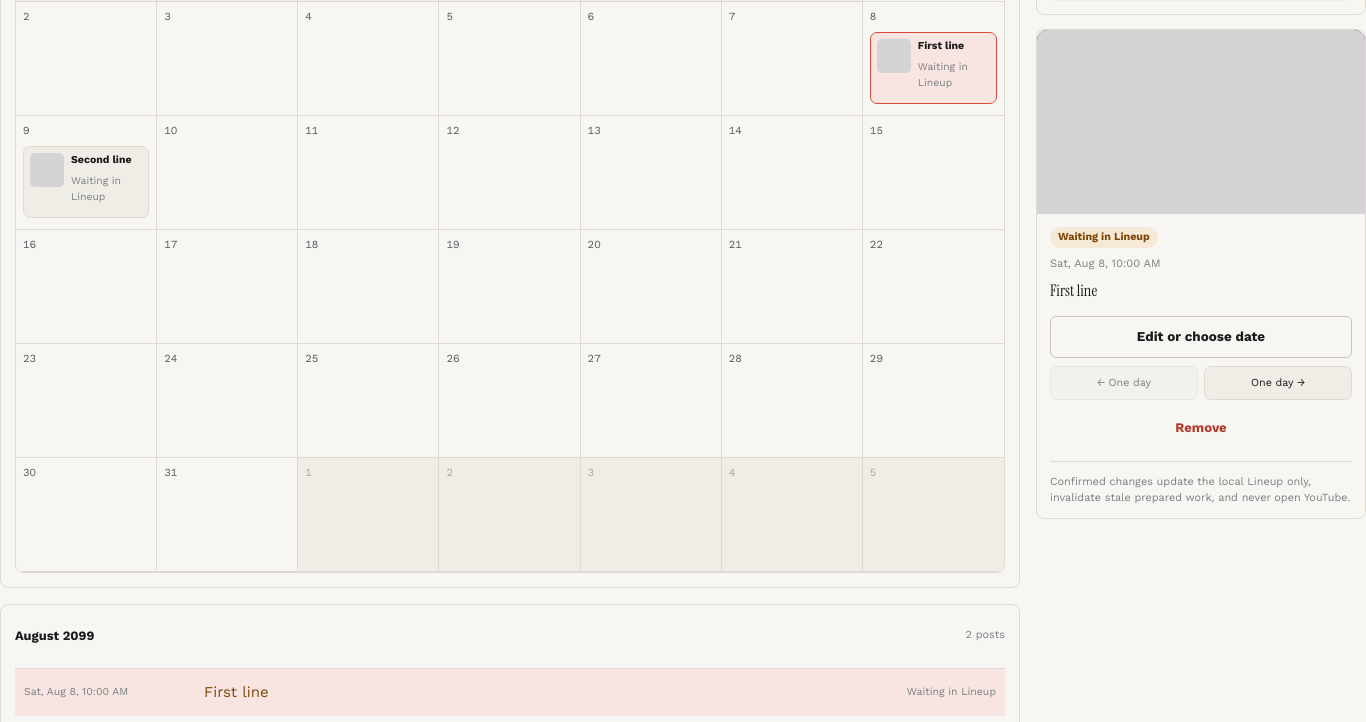
Test: LineupCalendar › opens a clear swap confirmation from the one-day shortcut
(page scrolled)
Click the button "One day →" at (1278, 383), box [1204, 366, 1352, 400]
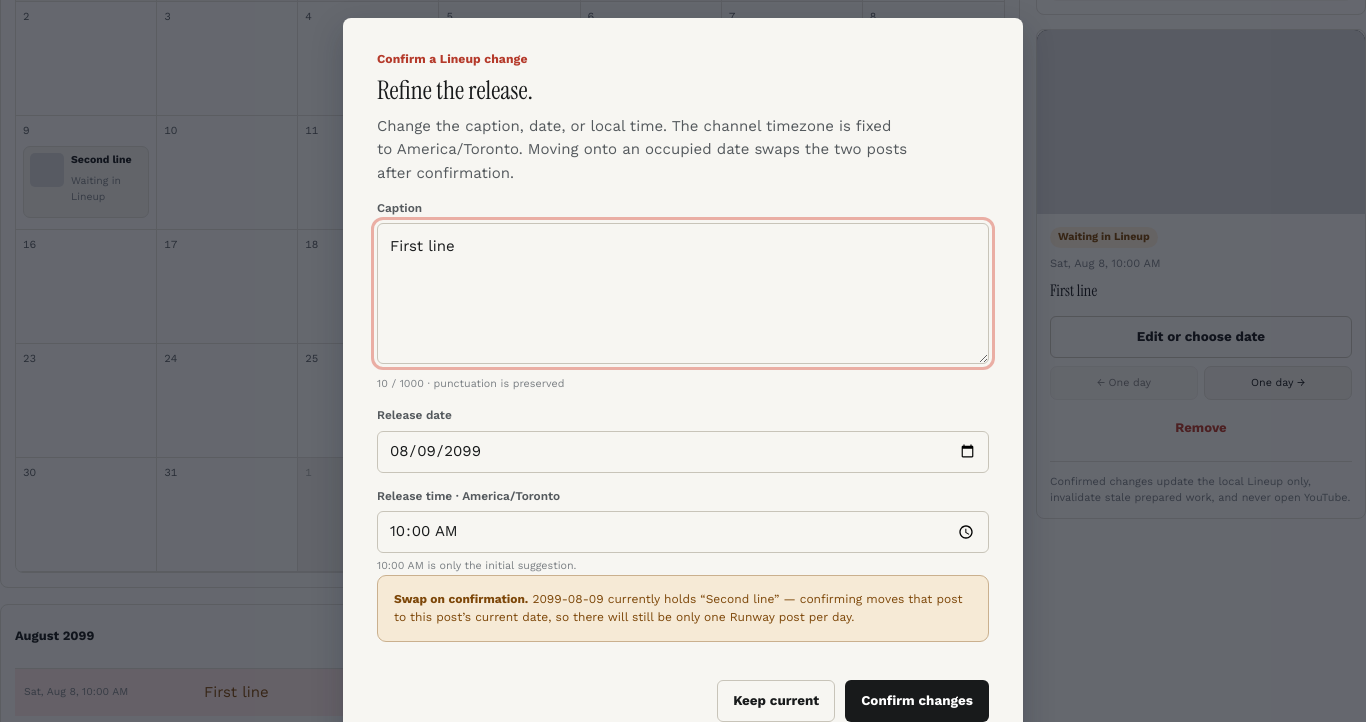
Expected: the text "Swap on confirmation." is shown, [394, 592, 528, 606]
Expected: the dialog shows "there will still be only one Runway post per day", [394, 592, 962, 624]
Expected: the date field labelled "Release date" holds "2099-08-09", [377, 431, 989, 473]
